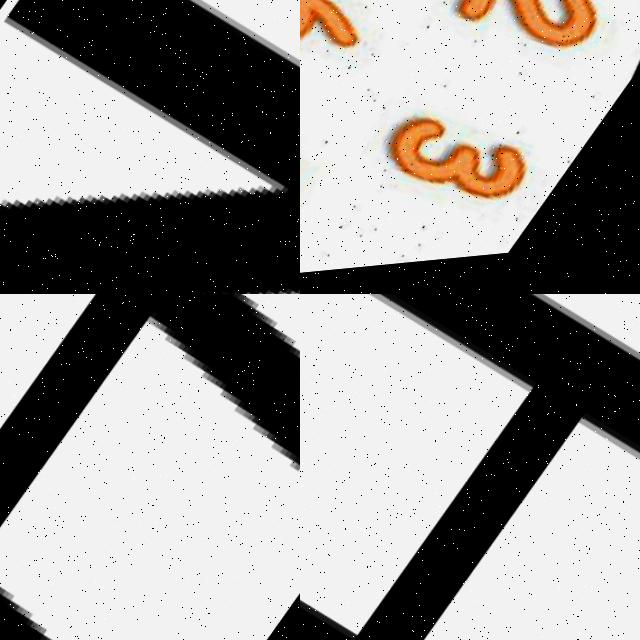2: (443, 0, 634, 103)
3: (374, 81, 561, 253)
6: (300, 0, 404, 113)
H: (300, 294, 640, 640), (0, 294, 300, 640)
N: (0, 0, 300, 294)
